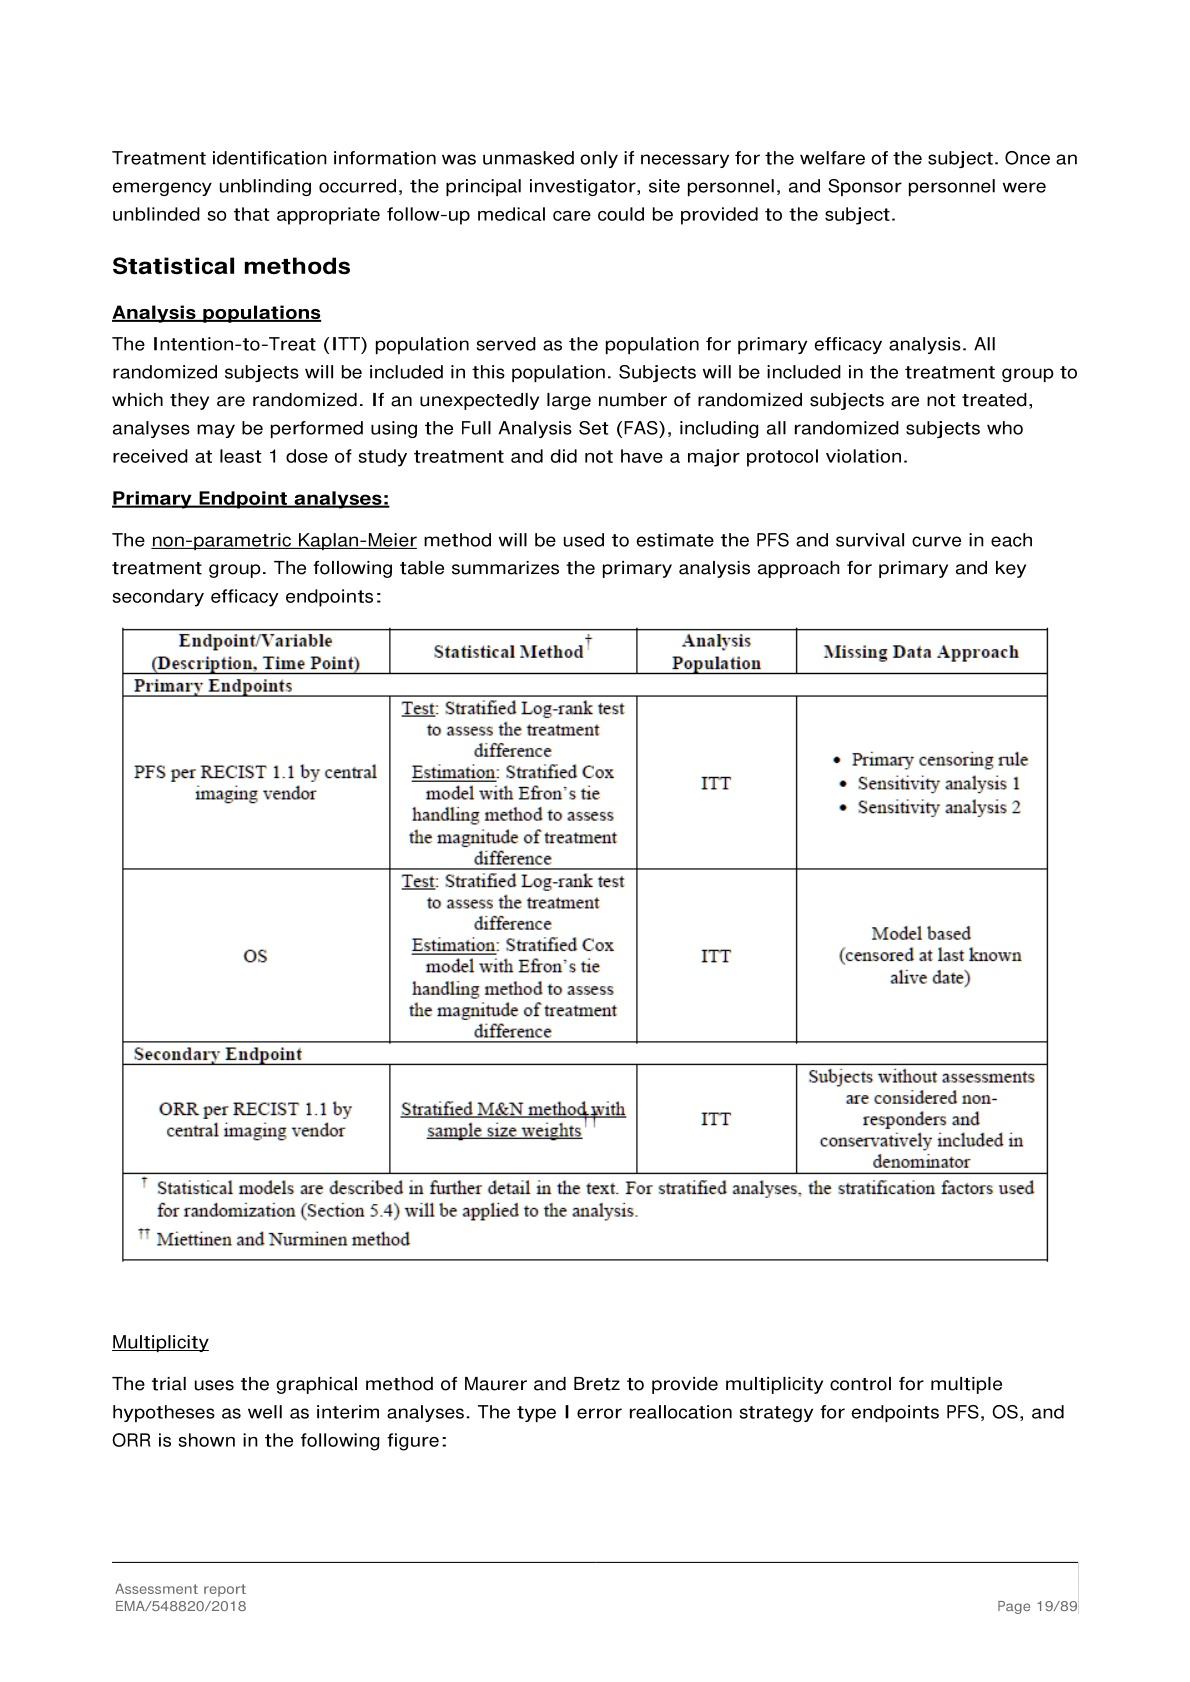merged_cells: (122, 628, 1050, 1262)
